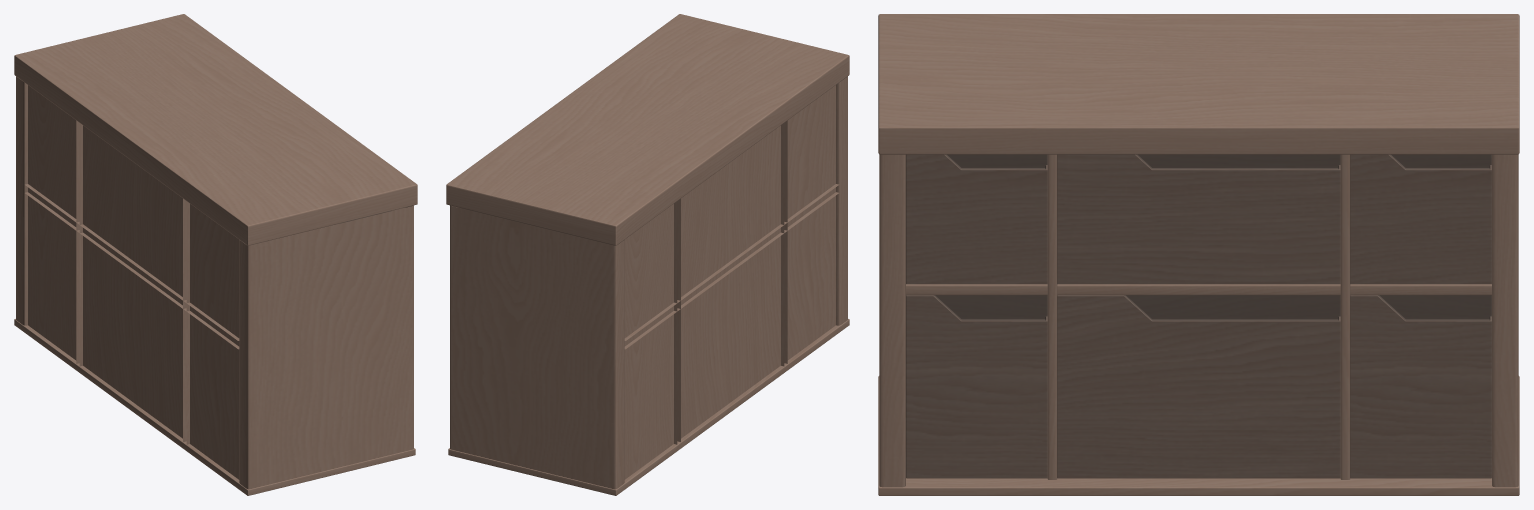
Rendered from EscritorioCajon_v2.glb.
The picture shows the model from 3 angles, left to right: view 1: azimuth 30°, elevation 25°; view 2: azimuth 150°, elevation 25°; view 3: azimuth 270°, elevation 25°; orthographic projection. The views are drawn at different scales.
Visible parts, largest first — view 1: EscritorioCajon_v2_GEO; view 2: EscritorioCajon_v2_GEO; view 3: EscritorioCajon_v2_GEO.
Boxes of the visible parts, x1=… form: EscritorioCajon_v2_GEO: x1=14, y1=14, x2=417, y2=495; EscritorioCajon_v2_GEO: x1=446, y1=14, x2=849, y2=495; EscritorioCajon_v2_GEO: x1=878, y1=14, x2=1519, y2=495.
Size of the model in its own units: 0.3465 by 0.5246 by 0.8229.
Materials: 1 (1 with a texture image).
